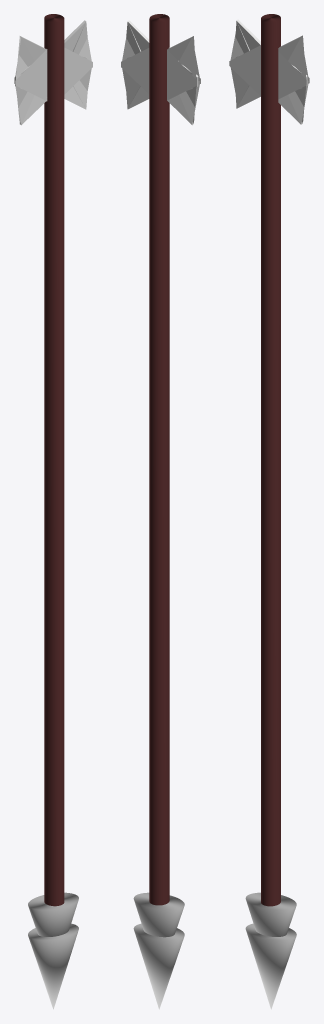
File: arrow.fbx
3 views of the same model, side by side, from view 1: azimuth 30°, elevation 25°; view 2: azimuth 150°, elevation 25°; view 3: azimuth 330°, elevation 25° (orthographic).
Parts seen in each view (by area): view 1: Cylinder.002, Cube.004; view 2: Cylinder.002, Cube.004; view 3: Cylinder.002, Cube.004.
Boxes of the visible parts, bbox=[...] form: Cylinder.002: bbox=[28, 14, 78, 1009]; Cube.004: bbox=[14, 20, 92, 125]; Cylinder.002: bbox=[133, 14, 184, 1009]; Cube.004: bbox=[121, 20, 200, 125]; Cylinder.002: bbox=[245, 14, 296, 1009]; Cube.004: bbox=[229, 19, 309, 124].
Size of the model in its own units: 68.41 by 839 by 27.9.
